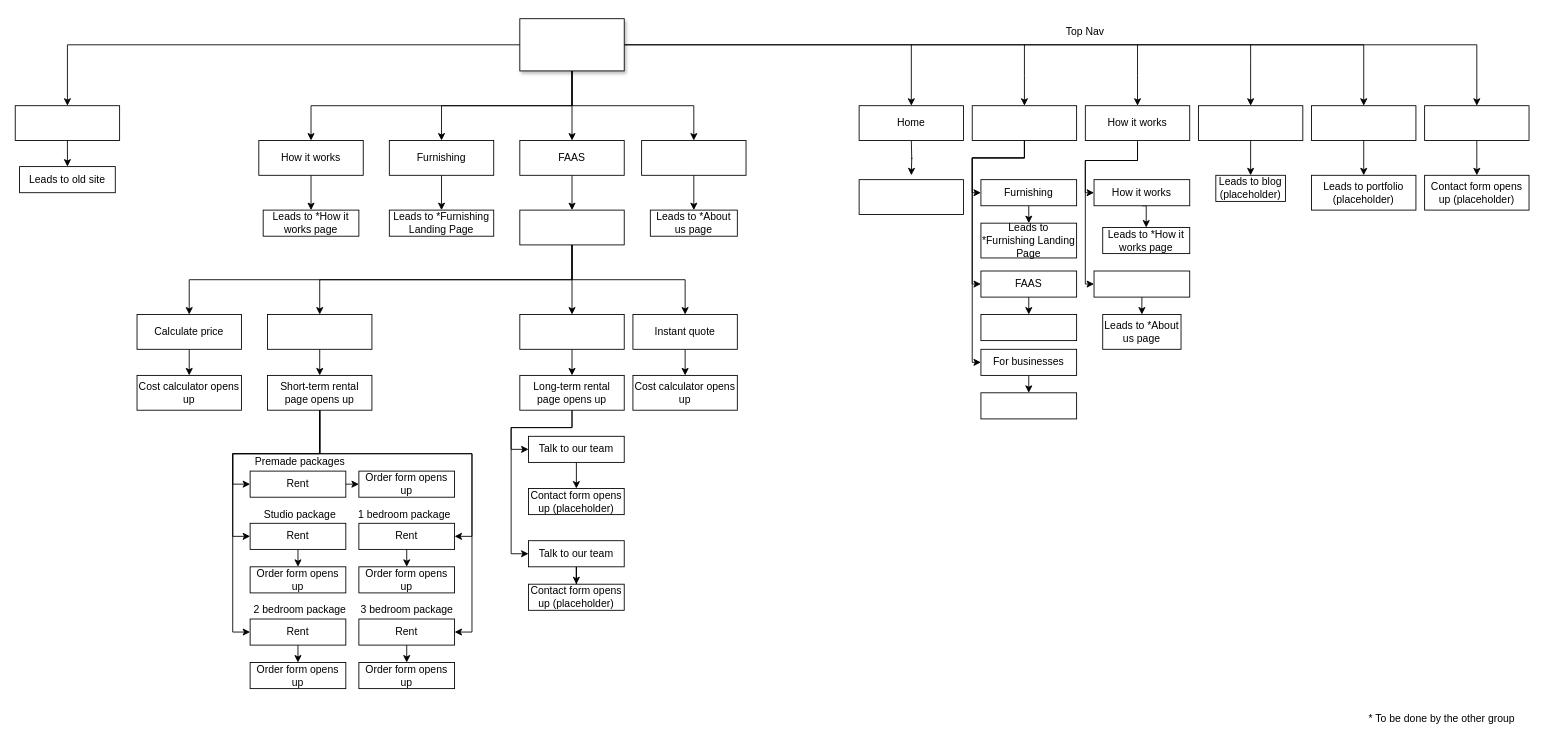
Image size: 1544x747. Some labels were removed from this diagram. Here are the shapes that lost their labels. From the top down, the centre of each, then its label:
At [572,45]: "*Home Page".
At [67,123]: "For students".
At [1024,123]: "Our services".
At [1250,123]: "Blog".
At [1363,123]: "Portfolio".
At [1476,123]: "Contact".
At [693,157]: "Why us".
At [911,196]: "Leads to *home page".
At [571,227]: "Leads to furniture rental landing page".
At [1141,283]: "About us".
At [319,331]: "Learn more (short-term)".
At [571,331]: "Learn more (long-term)".
At [1028,327]: "Leads to Rental Landing Page".
At [1028,405]: "Leads to *For businesses page".
